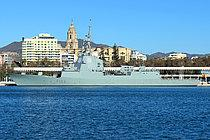MIL_Ship: (4, 41, 202, 88)
